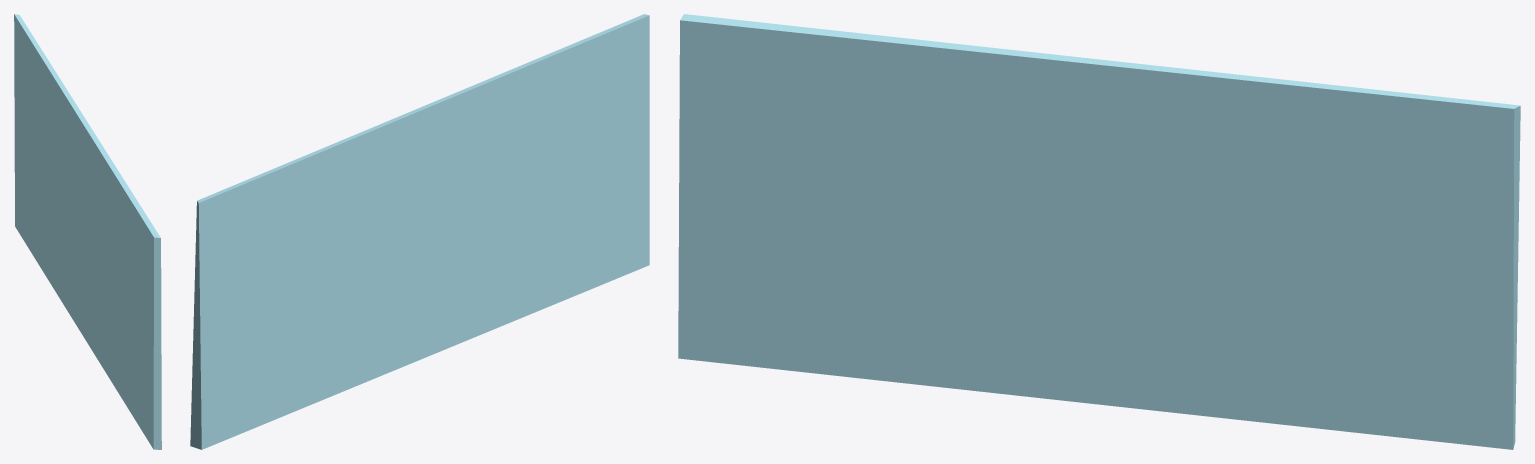
Rendered from shop_window.glb.
The picture shows the model from 3 angles, left to right: view 1: azimuth 30°, elevation 25°; view 2: azimuth 150°, elevation 25°; view 3: azimuth 270°, elevation 25°; orthographic projection. The views are drawn at different scales.
Parts seen in each view (by area): view 1: Cube; view 2: Cube; view 3: Cube.
Part boxes in pixels (<box>): Cube: <box>14,14,161,449</box>; Cube: <box>190,14,649,449</box>; Cube: <box>678,14,1520,449</box>.
Bounding box in the file's own units: 1.49 × 2.32 × 5.15.
Materials: 1 (1 with a texture image).
